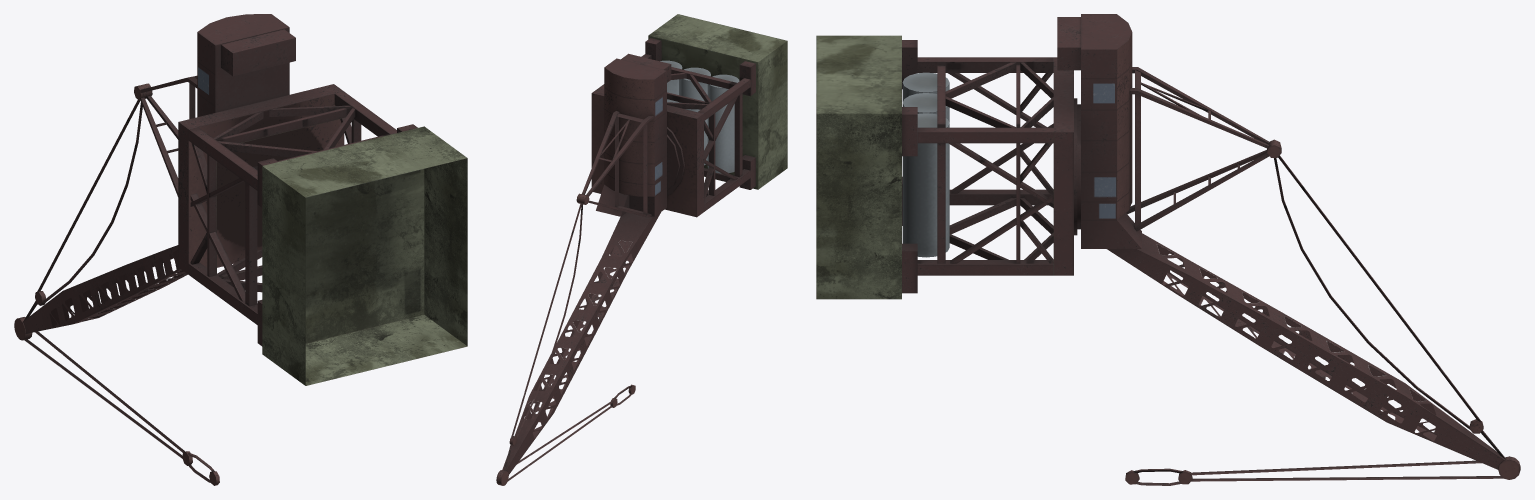
File: Container_Crain.fbx
The picture shows the model from 3 angles, left to right: view 1: azimuth 30°, elevation 25°; view 2: azimuth 150°, elevation 25°; view 3: azimuth 270°, elevation 25°; orthographic projection. The views are drawn at different scales.
Visible parts, largest first — view 1: Box051; view 2: Box051; view 3: Box051.
Boxes of the visible parts, x1,y1,x2,y2 form: Box051: [14, 14, 467, 485]; Box051: [496, 14, 787, 485]; Box051: [816, 14, 1520, 485].
Size of the model in its own units: 375 by 1031 by 1432.
